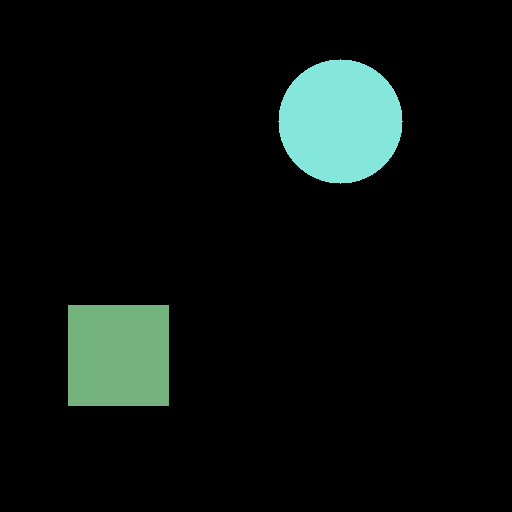circle: (278, 59, 402, 183)
square: (68, 305, 168, 405)
